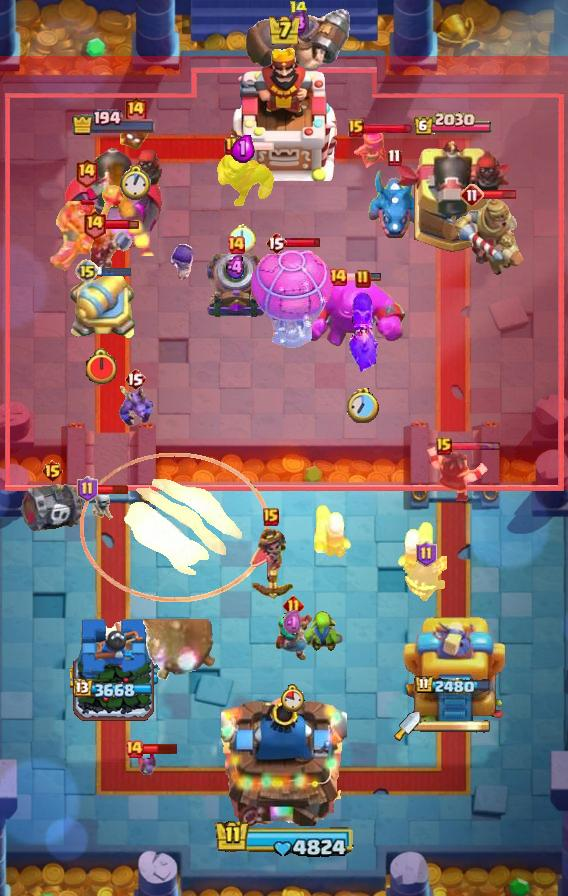bar: (401, 611, 505, 731)
barbarian-barrel: (134, 749, 160, 777)
bomber: (119, 119, 151, 151)
bomber-evolution: (248, 525, 294, 605)
cannon: (342, 129, 388, 173)
cannon-cart: (247, 243, 335, 351)
clock: (211, 819, 357, 861)
clone: (298, 276, 408, 350)
electro-spirit: (231, 133, 255, 163), (287, 9, 309, 37), (224, 255, 248, 280), (284, 608, 305, 635)
elixir: (84, 348, 119, 386), (121, 165, 152, 201), (347, 389, 379, 423), (230, 224, 256, 252), (281, 684, 305, 712)
emote: (363, 121, 414, 134), (449, 441, 501, 452), (141, 741, 178, 754), (237, 140, 274, 152), (105, 218, 140, 230), (95, 484, 129, 496), (285, 236, 322, 247), (96, 266, 132, 277), (483, 189, 518, 200), (346, 272, 382, 282)
flying-machine: (212, 150, 274, 206)
freeze: (46, 185, 126, 279)
goblin: (169, 242, 195, 280)
goblin-ball: (346, 293, 380, 375)
goblin-cage: (204, 250, 268, 320)
graveyard: (366, 168, 422, 242)
heal-spirit: (91, 493, 117, 523)
hog-rider: (88, 227, 134, 277)
ice-wizard: (80, 454, 268, 603)
king-tower: (221, 690, 347, 826), (231, 45, 337, 181)
king-tower-bar: (420, 719, 492, 733)
lumberjack: (423, 444, 489, 502)
queen-tower: (70, 616, 158, 731)
ram-rider: (446, 194, 526, 278)
royal-delivery: (117, 386, 153, 428)
royal-recruit: (64, 268, 138, 344)
royal-recruit-evolution: (21, 478, 83, 534)
selected: (71, 109, 157, 136), (413, 112, 493, 137), (414, 675, 492, 697), (73, 679, 154, 700)
spear-goblin: (405, 556, 447, 602)
text: (124, 95, 149, 126), (73, 156, 98, 187), (82, 209, 106, 239), (460, 183, 484, 207), (75, 259, 99, 283), (415, 541, 437, 567), (40, 459, 63, 483), (78, 476, 99, 502), (265, 231, 287, 255), (124, 367, 146, 391), (284, 595, 305, 616), (226, 235, 246, 255), (328, 267, 348, 287), (124, 739, 144, 759), (288, 1, 308, 20), (224, 136, 240, 156), (355, 269, 371, 289), (348, 119, 364, 137), (436, 437, 452, 455), (263, 508, 279, 526), (387, 148, 401, 167)
tombstone: (312, 502, 354, 560), (395, 519, 437, 577)
tower-bar: (392, 138, 514, 256), (63, 138, 164, 256)
witch: (272, 611, 314, 663)
wizard: (242, 6, 354, 76)
x-bow: (137, 618, 218, 681)
zap: (304, 608, 344, 652)
